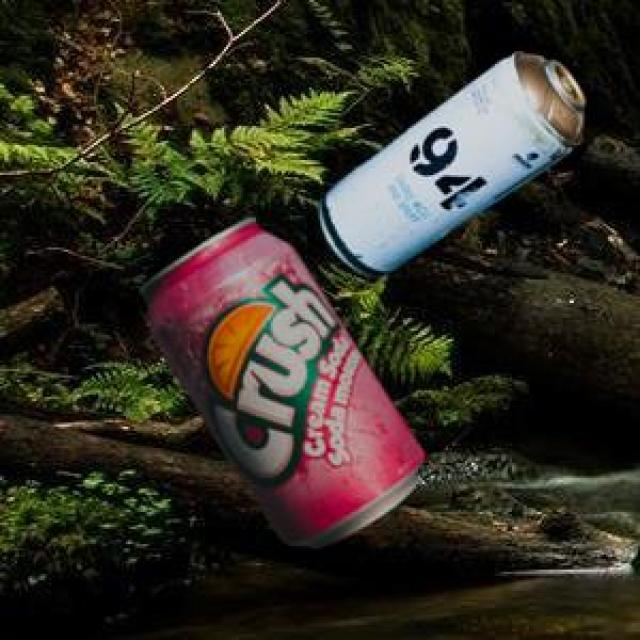logam: (138, 214, 421, 545), (315, 50, 581, 274)
